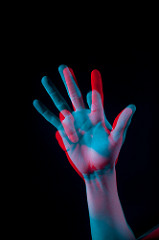palm: (57, 111, 128, 171)
